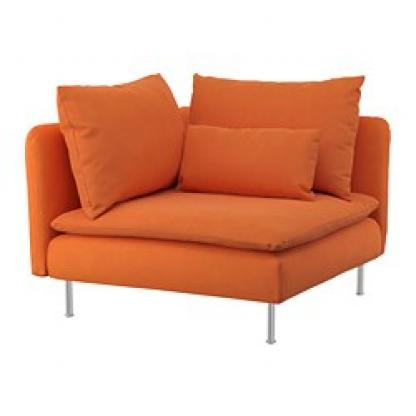Sofa: (17, 33, 394, 358)
